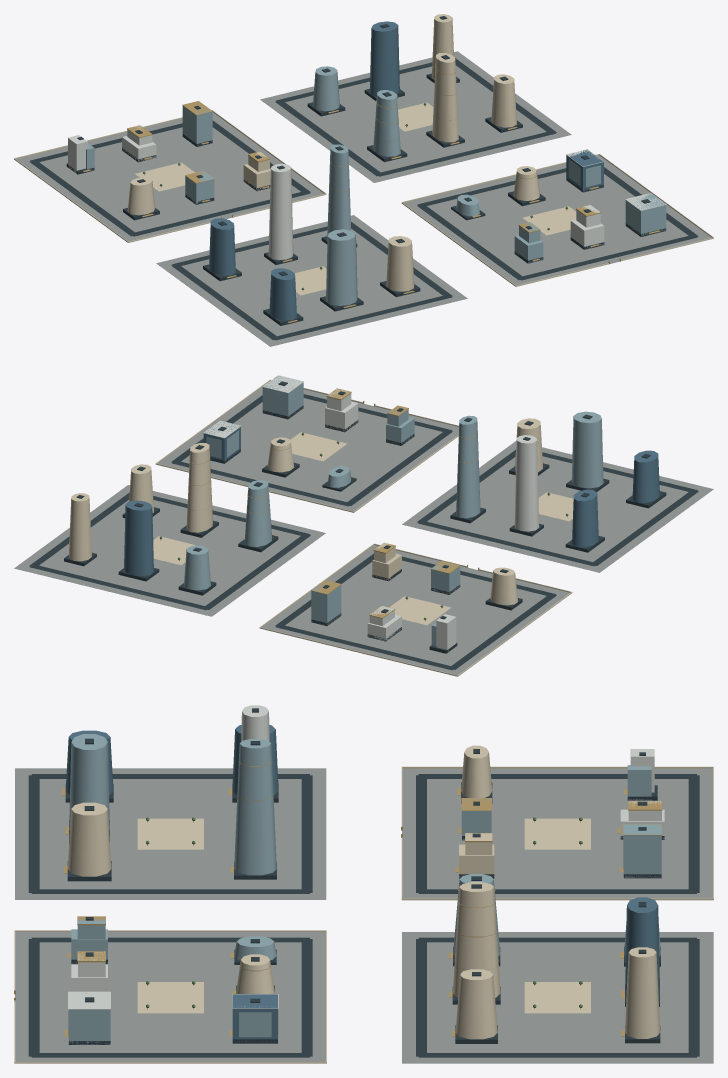
File: GC-TILE-16-17.glb
The picture shows the model from 3 angles, top to bottom: view 1: azimuth 30°, elevation 25°; view 2: azimuth 150°, elevation 25°; view 3: azimuth 270°, elevation 25°; orthographic projection. The views are drawn at different scales.
Visible parts, largest first — view 1: GC-TILE-16-17-paving, GC-TILE-16-17-dark, GC-TILE-16-17-ivory, GC-TILE-16-17-glass, GC-TILE-16-17-blue, GC-TILE-16-17-white, GC-TILE-16-17-gold; view 2: GC-TILE-16-17-paving, GC-TILE-16-17-dark, GC-TILE-16-17-ivory, GC-TILE-16-17-glass, GC-TILE-16-17-white, GC-TILE-16-17-blue, GC-TILE-16-17-gold; view 3: GC-TILE-16-17-paving, GC-TILE-16-17-ivory, GC-TILE-16-17-dark, GC-TILE-16-17-glass, GC-TILE-16-17-blue, GC-TILE-16-17-white, GC-TILE-16-17-gold.
Part boxes in pixels (x1,y1,x2,y2): GC-TILE-16-17-paving: [16, 51, 711, 346]; GC-TILE-16-17-dark: [29, 16, 698, 340]; GC-TILE-16-17-ivory: [14, 14, 713, 295]; GC-TILE-16-17-glass: [86, 66, 666, 305]; GC-TILE-16-17-blue: [209, 21, 603, 320]; GC-TILE-16-17-white: [68, 125, 666, 260]; GC-TILE-16-17-gold: [83, 66, 660, 322]; GC-TILE-16-17-paving: [14, 387, 713, 675]; GC-TILE-16-17-dark: [29, 381, 698, 670]; GC-TILE-16-17-ivory: [69, 379, 573, 676]; GC-TILE-16-17-glass: [184, 376, 603, 645]; GC-TILE-16-17-white: [203, 375, 539, 651]; GC-TILE-16-17-blue: [124, 422, 659, 576]; GC-TILE-16-17-gold: [91, 388, 660, 618]; GC-TILE-16-17-paving: [15, 768, 713, 1063]; GC-TILE-16-17-ivory: [14, 745, 713, 1063]; GC-TILE-16-17-dark: [28, 708, 699, 1057]; GC-TILE-16-17-glass: [68, 734, 661, 1044]; GC-TILE-16-17-blue: [65, 725, 659, 1042]; GC-TILE-16-17-white: [68, 705, 664, 1009]; GC-TILE-16-17-gold: [14, 761, 662, 1036].
Bounding box in the file's own units: 759 × 157 × 760.
